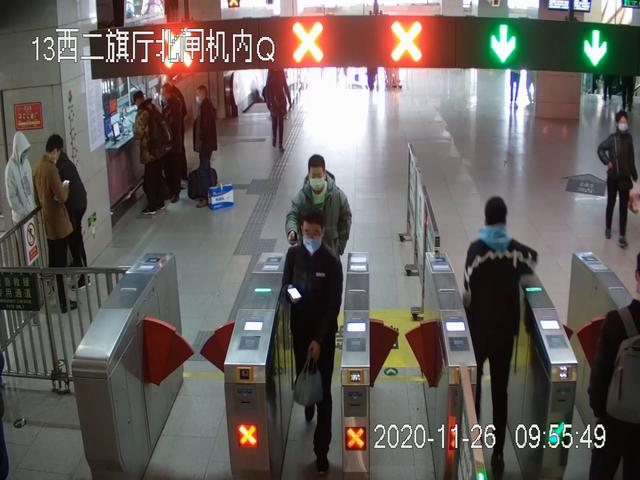person: (463, 197, 539, 480), (282, 207, 343, 476), (285, 154, 353, 331), (35, 138, 80, 313), (596, 110, 640, 248), (131, 90, 175, 213), (5, 130, 38, 272), (191, 85, 219, 208), (160, 85, 190, 199), (265, 66, 292, 151)
